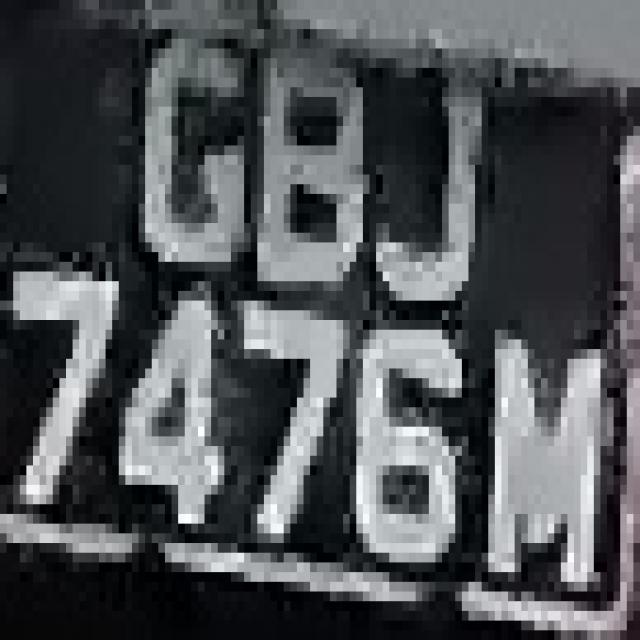4: (92, 262, 231, 582)
6: (330, 252, 468, 621)
7: (231, 272, 336, 552), (13, 242, 112, 514)
B: (244, 38, 370, 300)
G: (112, 19, 244, 310)
J: (356, 48, 482, 320)
M: (482, 310, 614, 592)
